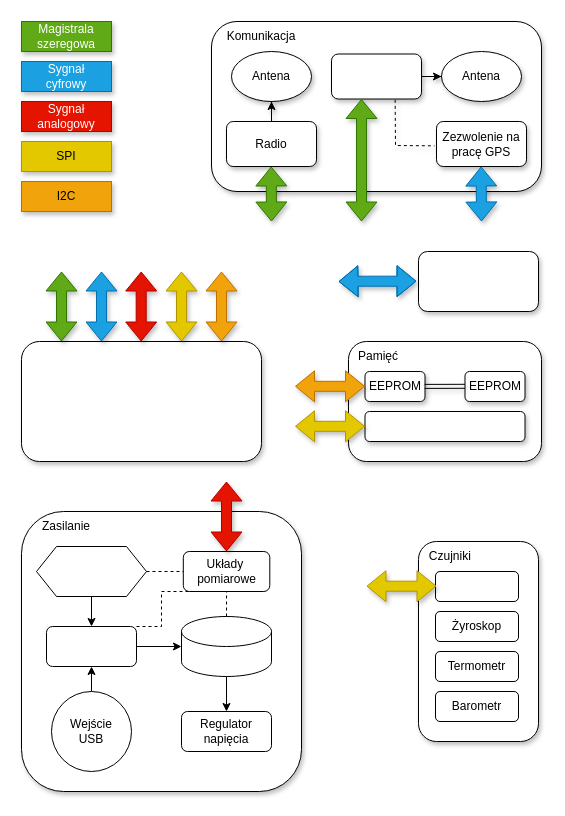
This 565x816 diagram has some shape labels left out. Each missing label, with the centre of its shape:
Akumulatory Li-ion: pixel 226 646
GPS: pixel 377 77
Główny procesor: pixel 142 402
Kamera: pixel 476 586
Karta SD: pixel 445 427
Kontroler ładowania: pixel 91 646
Ogniwa fotowoltaiczne: pixel 91 571
Zewnętrzny watchdog: pixel 479 282
